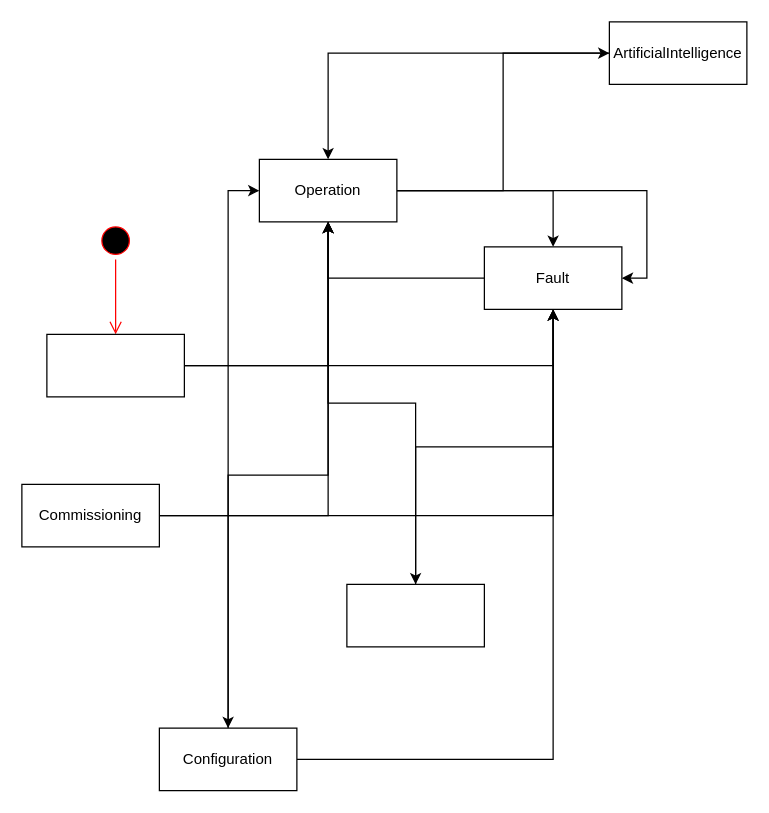
Some shapes in this 769 by 813 pixel diagram are drawn without their labels. Here are the shapes that lost their labels. From the top down, the centre of each, then its label:
At (x=115, y=365): "Startup".
At (x=415, y=615): "Manual".
